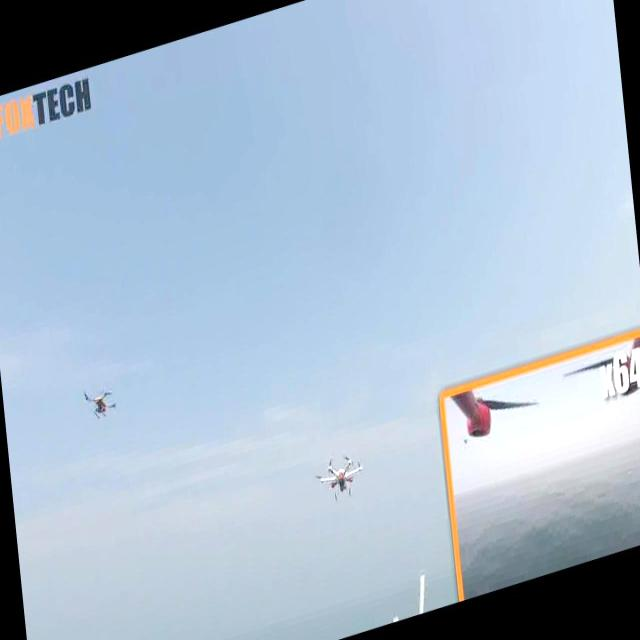drone: (310, 441, 369, 506), (82, 378, 120, 429)
